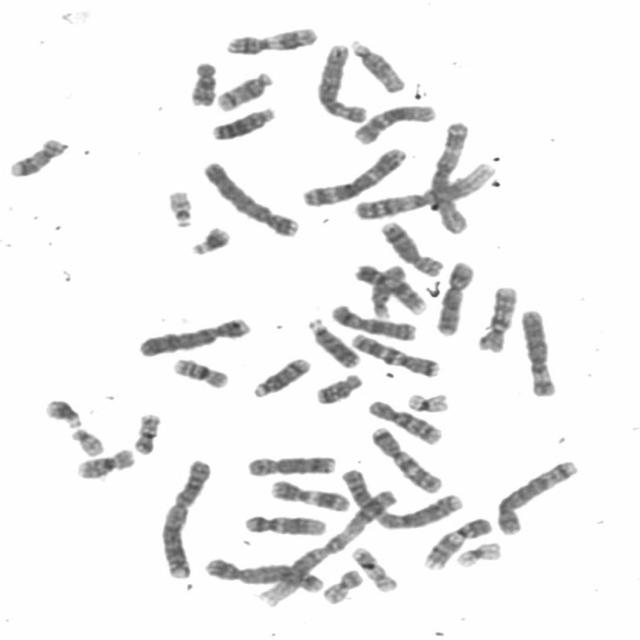A1: (253, 480, 402, 610), (348, 157, 499, 221)
A2: (335, 462, 467, 531), (153, 452, 214, 581)
A3: (296, 140, 410, 208), (426, 115, 475, 235)
B4: (197, 154, 302, 239), (133, 311, 254, 358)
B5: (490, 454, 581, 536), (199, 551, 328, 594)
C10: (362, 394, 446, 446), (471, 279, 521, 353)
C11: (220, 21, 321, 56), (264, 474, 353, 513)
C12: (348, 98, 438, 146), (238, 508, 330, 537)
C6: (311, 38, 371, 124), (514, 303, 562, 398)
C7: (364, 420, 446, 494), (345, 327, 443, 378)
C8: (374, 215, 446, 277), (241, 449, 339, 478)
C9: (417, 510, 496, 572), (350, 258, 429, 316)
D13: (302, 312, 363, 369), (205, 101, 279, 141)
D14: (247, 351, 314, 399), (211, 64, 277, 112)
D15: (345, 33, 409, 94), (366, 260, 409, 320)
E16: (70, 442, 138, 481), (167, 352, 232, 390)
E17: (4, 132, 70, 179), (346, 542, 401, 593)
E18: (310, 367, 366, 406), (183, 56, 221, 108)
F19: (450, 536, 505, 570), (401, 386, 452, 414)
F20: (316, 562, 366, 606), (126, 407, 164, 456)
G21: (38, 392, 86, 430), (184, 220, 234, 256)
G22: (161, 183, 196, 229), (64, 422, 107, 457)
X: (325, 298, 420, 342), (431, 255, 477, 337)
